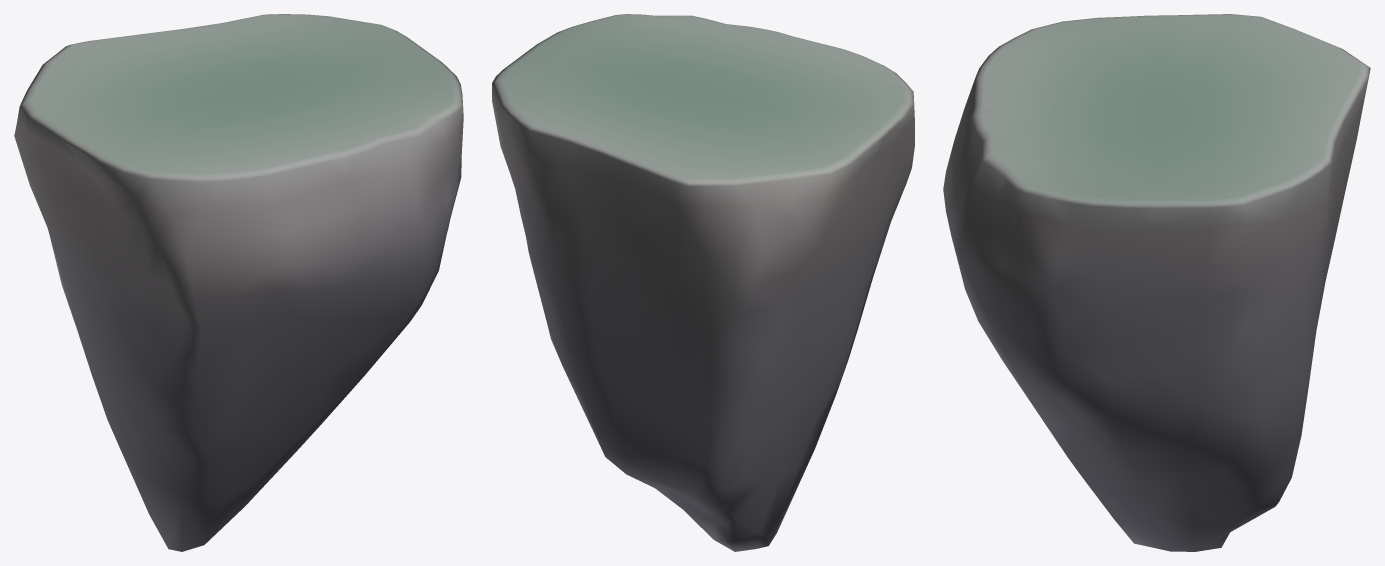
The model's file is S_IslandSmall_VarB.fbx.
3 renders of one model, left to right at view 1: azimuth 30°, elevation 25°; view 2: azimuth 150°, elevation 25°; view 3: azimuth 270°, elevation 25°, orthographic. The views are drawn at different scales.
Visible parts, largest first — view 1: IslandSmall_VarB_GEO; view 2: IslandSmall_VarB_GEO; view 3: IslandSmall_VarB_GEO.
Part boxes in pixels (left/top/right/bottom): IslandSmall_VarB_GEO: left=14, top=14, right=463, bottom=551; IslandSmall_VarB_GEO: left=492, top=14, right=914, bottom=551; IslandSmall_VarB_GEO: left=943, top=14, right=1370, bottom=551.
Bounding box in the file's own units: 9.53 × 10.96 × 8.89.
